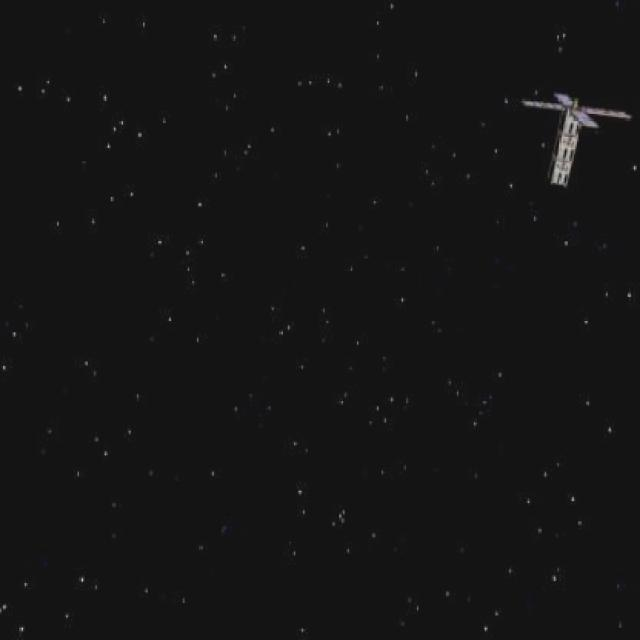satellite: (519, 83, 626, 196)
